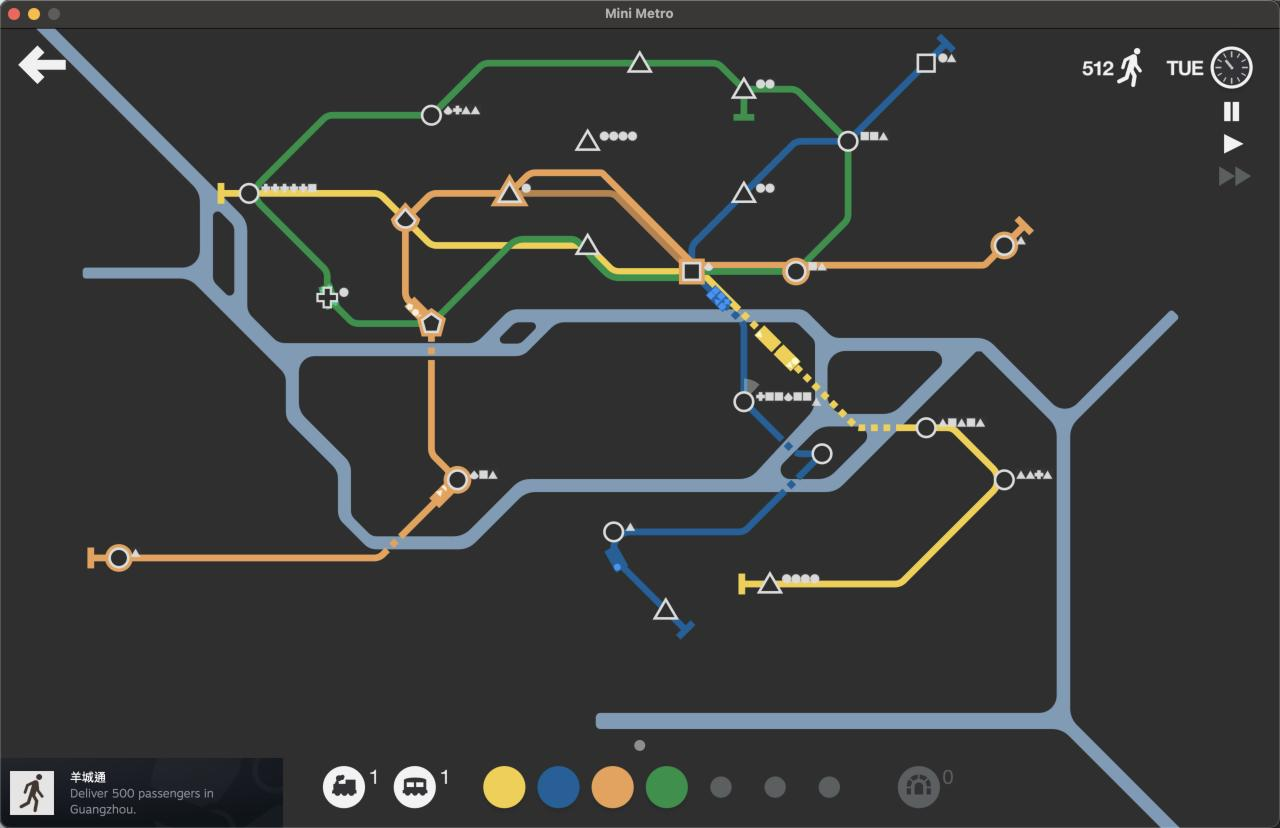BLUE LINE: (628, 458, 817, 536), (702, 284, 750, 391), (749, 137, 838, 192), (854, 71, 922, 135), (609, 542, 665, 607), (751, 409, 811, 457), (689, 202, 736, 257), (673, 618, 696, 639), (933, 35, 957, 55)
DARK GREEN LINE: (255, 110, 421, 187), (437, 236, 583, 316), (438, 59, 636, 109), (256, 199, 331, 285), (805, 152, 851, 262), (752, 84, 844, 136), (643, 60, 741, 87), (588, 257, 678, 283), (335, 303, 418, 327), (708, 267, 785, 275), (733, 100, 756, 121)
ORANGE YELLOW LINE: (133, 488, 450, 562), (517, 170, 693, 259), (808, 252, 997, 271), (429, 337, 452, 471), (402, 229, 429, 318), (412, 189, 501, 213), (705, 261, 789, 269), (1014, 217, 1035, 237), (87, 547, 105, 570)
YELLOW LINE: (707, 277, 915, 435), (779, 481, 999, 588), (258, 188, 401, 213), (937, 424, 1000, 477), (593, 249, 678, 273), (413, 229, 505, 249), (738, 575, 764, 595), (219, 183, 239, 205), (513, 243, 578, 249)
